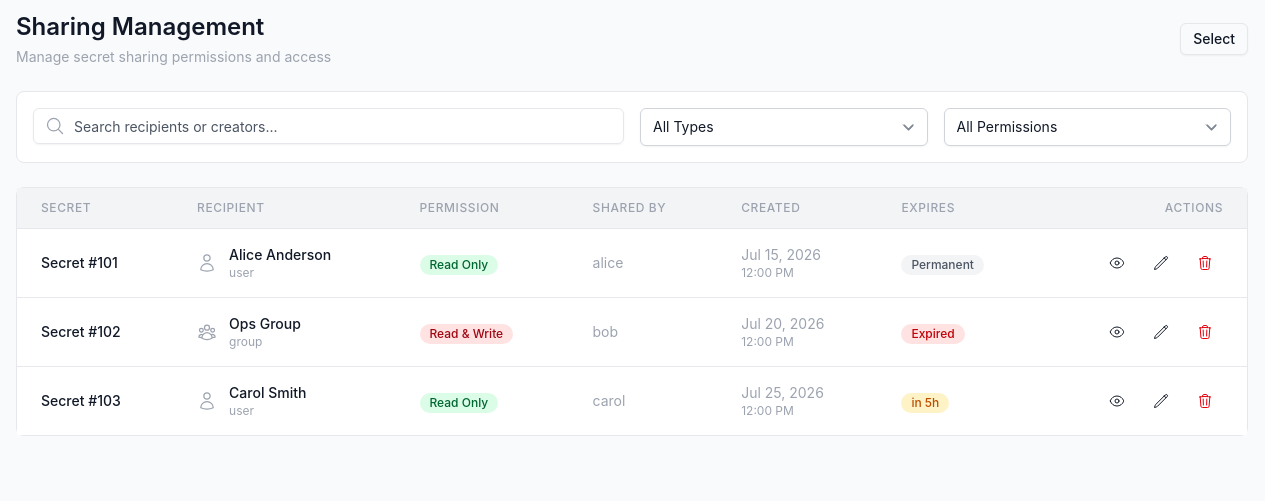
Scenario: SharingManagementPage — search / filters › clears all filters via "Clear all"
This screenshot has width=1265, height=501.
Select "Users" in the 1st dropdown at (784, 127), box [640, 108, 928, 146]
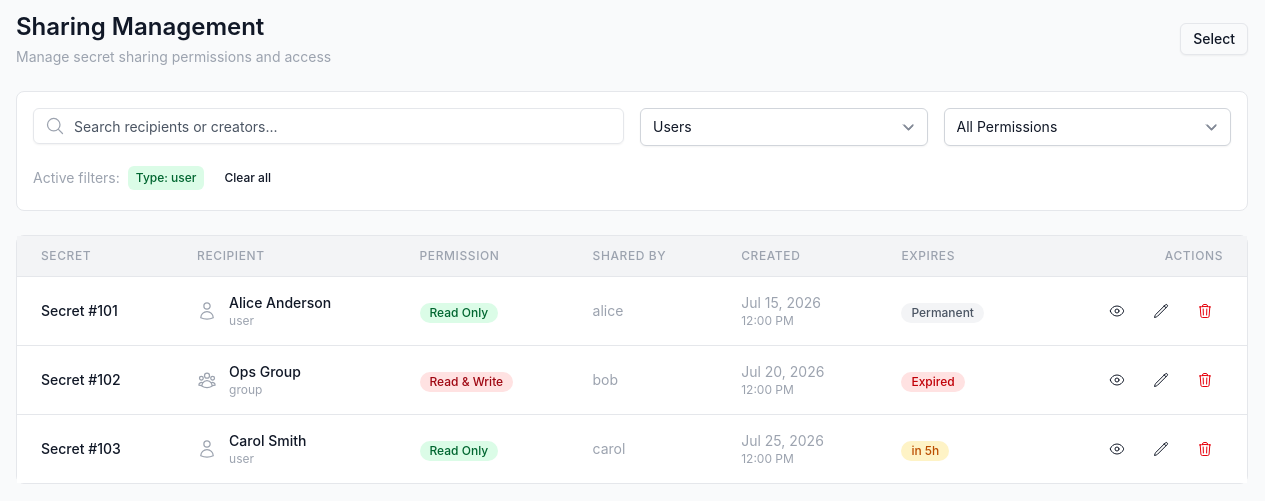
Result: the text "Type: user" is shown at [128, 166, 204, 190]
Click the button "Clear all".
click(248, 178)  # box [212, 162, 283, 194]
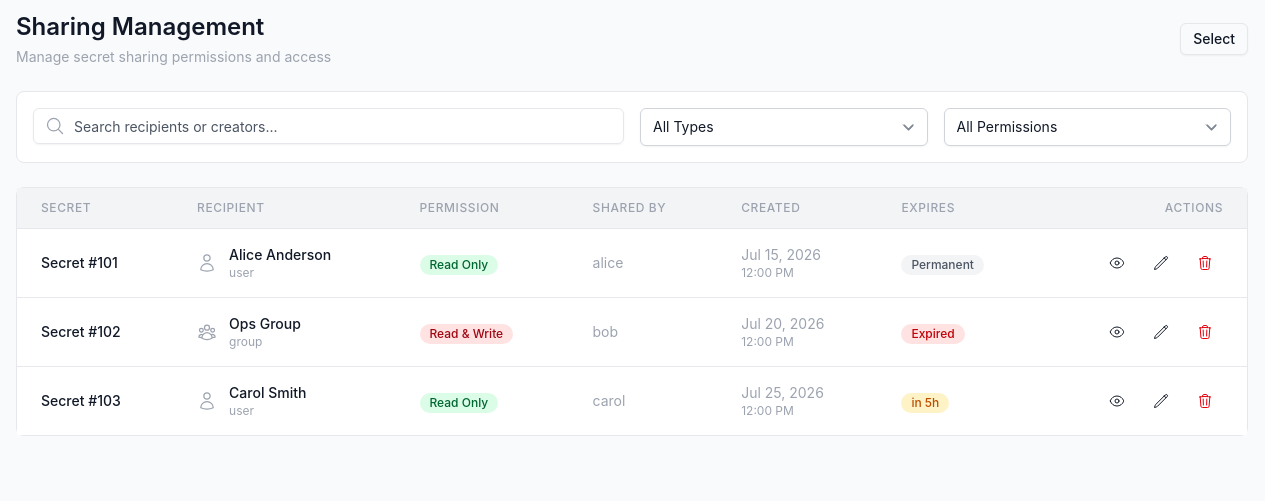
Expected: the field with placeholder "Search recipients or creators..." is empty, [33, 108, 624, 144]
Result: the text "Type: user" is gone
